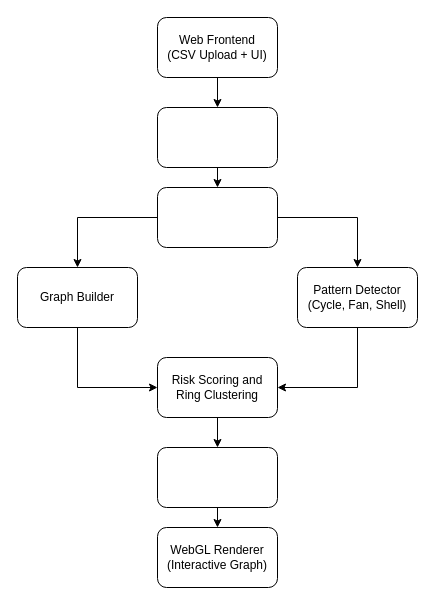
The diagram is 435 pixels wide and 605 high, and some of its shapes have lost their labels. The shapes that lost their labels are listed below. From the top down, each one's centre as x and y in pixels, then its label:
At (x=217, y=137): "API Layer".
At (x=217, y=217): "Transaction Processing Engine".
At (x=217, y=477): "Output Layer".
